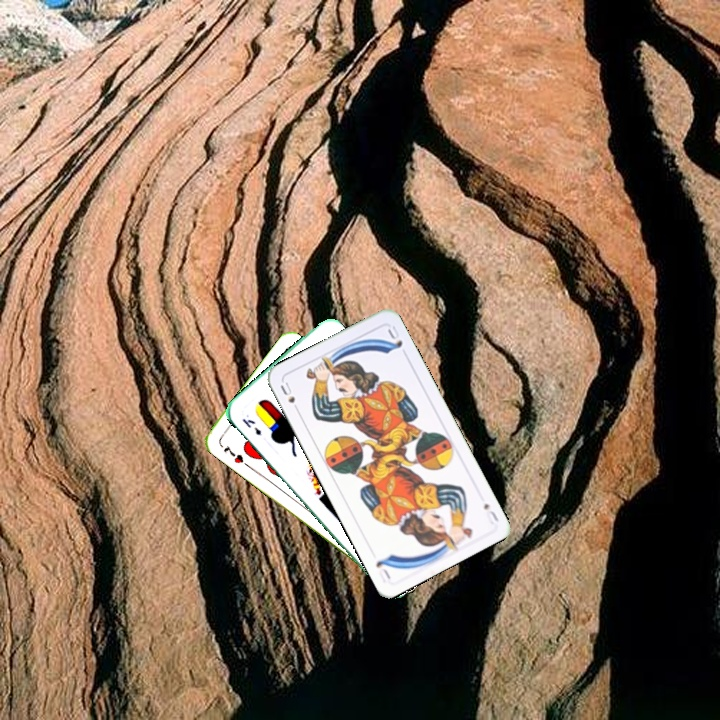EK: (238, 414, 264, 438)
H7: (219, 441, 246, 466)
SU: (276, 378, 302, 416), (479, 499, 501, 527)
